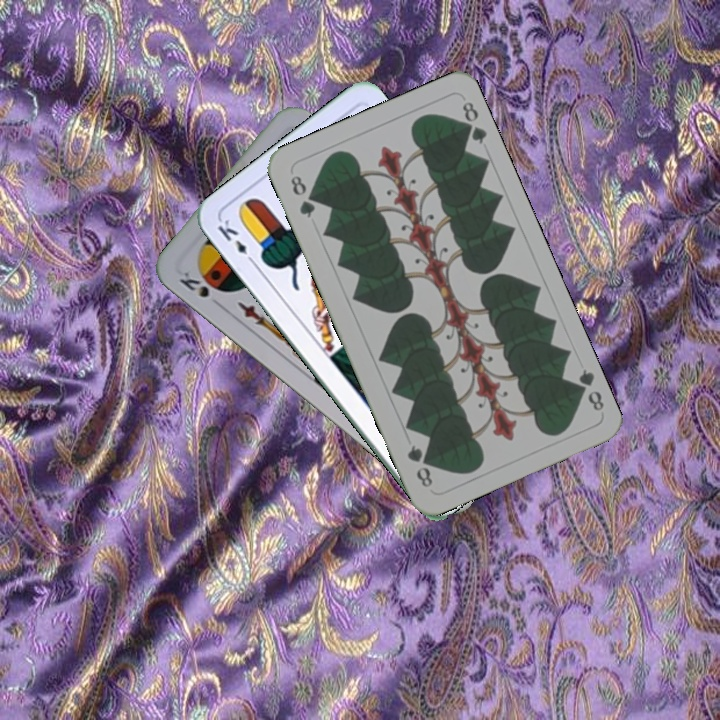EK: (213, 215, 258, 267)
G8: (569, 364, 607, 414), (286, 171, 318, 221)
SK: (175, 267, 212, 300)
